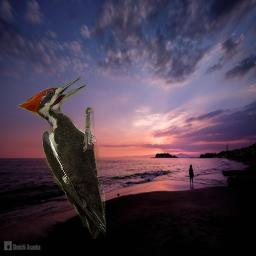Woodpecker: (17, 76, 106, 239)
